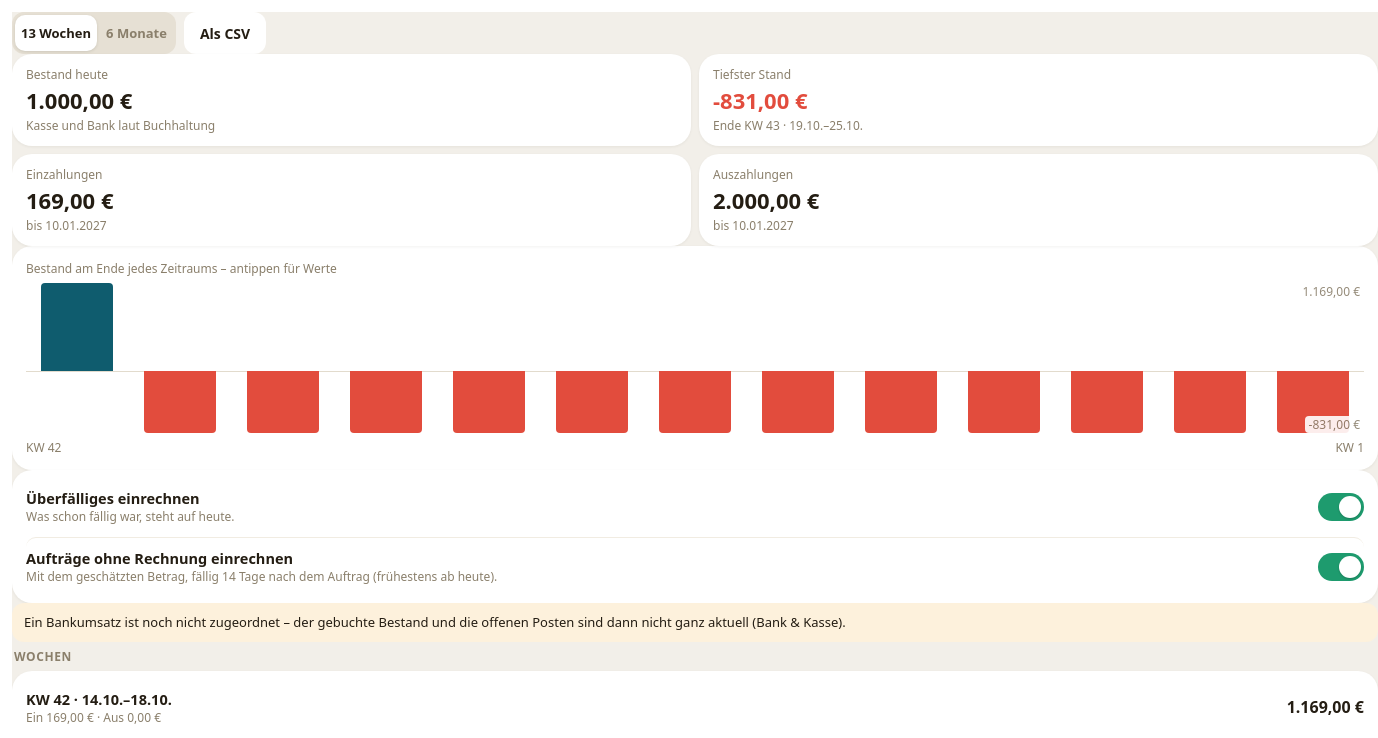
it: FinanceLiquiditaet › Bestand, überfällige Rechnung auf heute, Beleg und Vorjahresrechnung; Tiefpunkt
The image size is (1378, 738).
expect the text "Bestand heute" reads "Bestand heute 1.000,00 € Kasse und Bank laut Buchhaltung": met, box [26,85,132,115]
expect the text "Tiefster Stand" reads "Tiefster Stand -831,00 € Ende KW 43 · 19.10.–25.10.": met, box [713,85,808,115]
What coordinates should you click on to do the following:
click the button "KW 42 · 14.10.–18.10."
I would click on:
 (99, 699)
Its box is [26,685,1364,730].
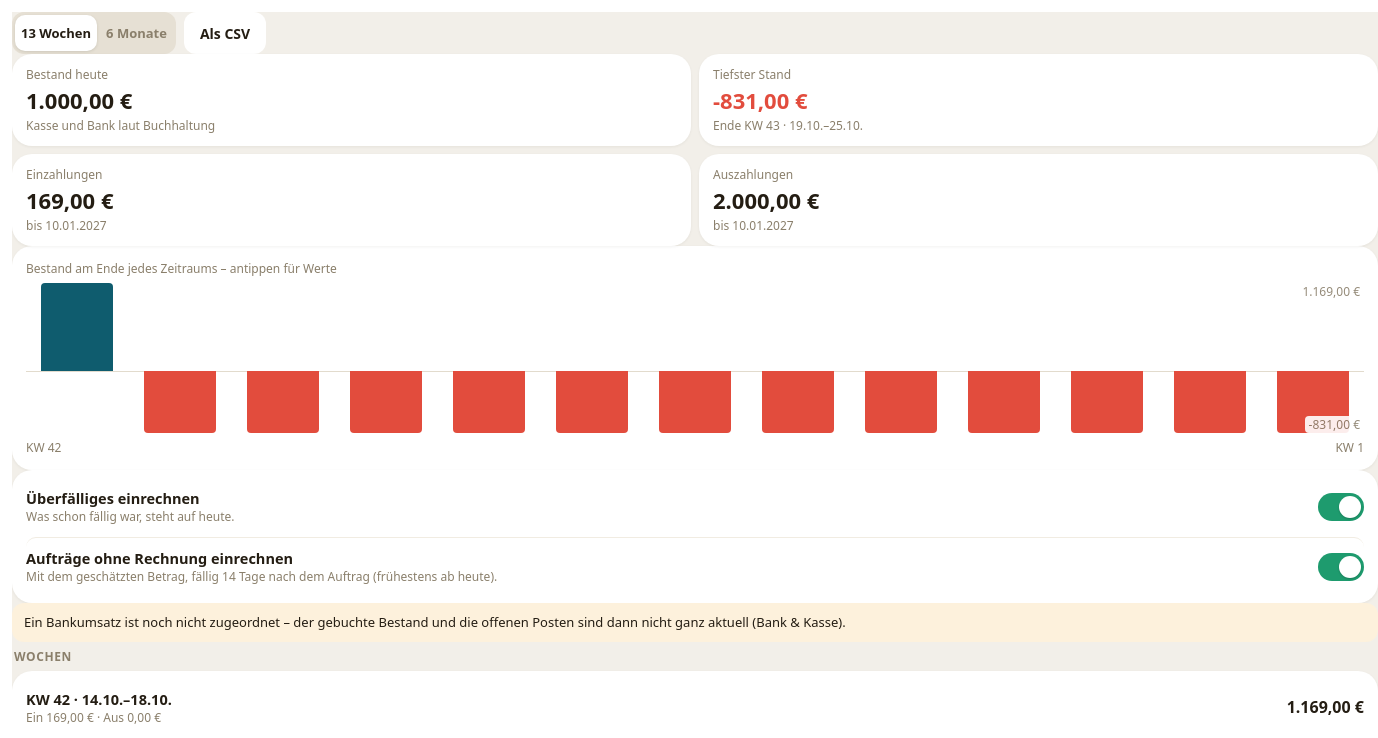
expect the text "Bankumsatz ist noch nicht zugeordnet" is shown: met, box [12,603,1377,642]
expect the text "Offene Rechnungen · war schon fällig" is shown 2 times: met
What coordinates should you click on to do the following:
click the button "Überfälliges einrechnen"
I would click on:
 (113, 498)
Its box is [26,484,1364,529].
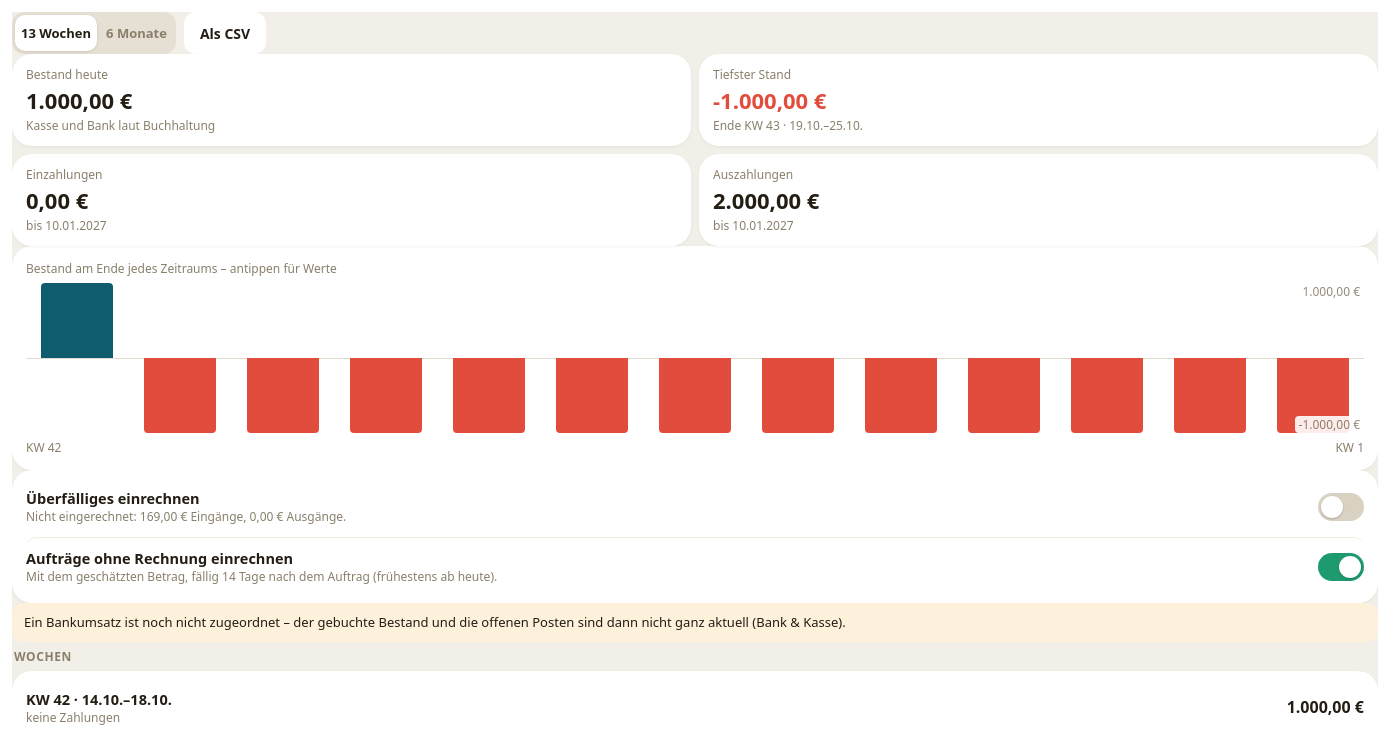
expect the text "Nicht eingerechnet: 169,00 € Eingänge, 0,00 € Ausgänge." is shown: met, box [26,508,346,525]
